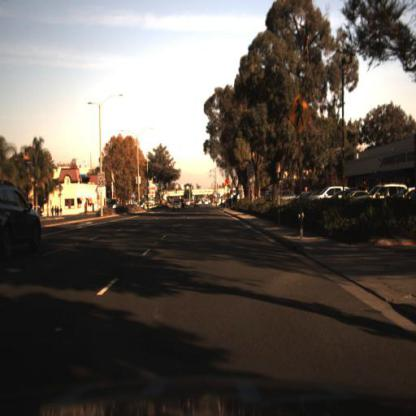car: (1, 179, 43, 270), (311, 185, 338, 202), (104, 196, 121, 219), (172, 200, 183, 216)
pedestrian: (83, 198, 90, 221), (53, 206, 64, 219)
